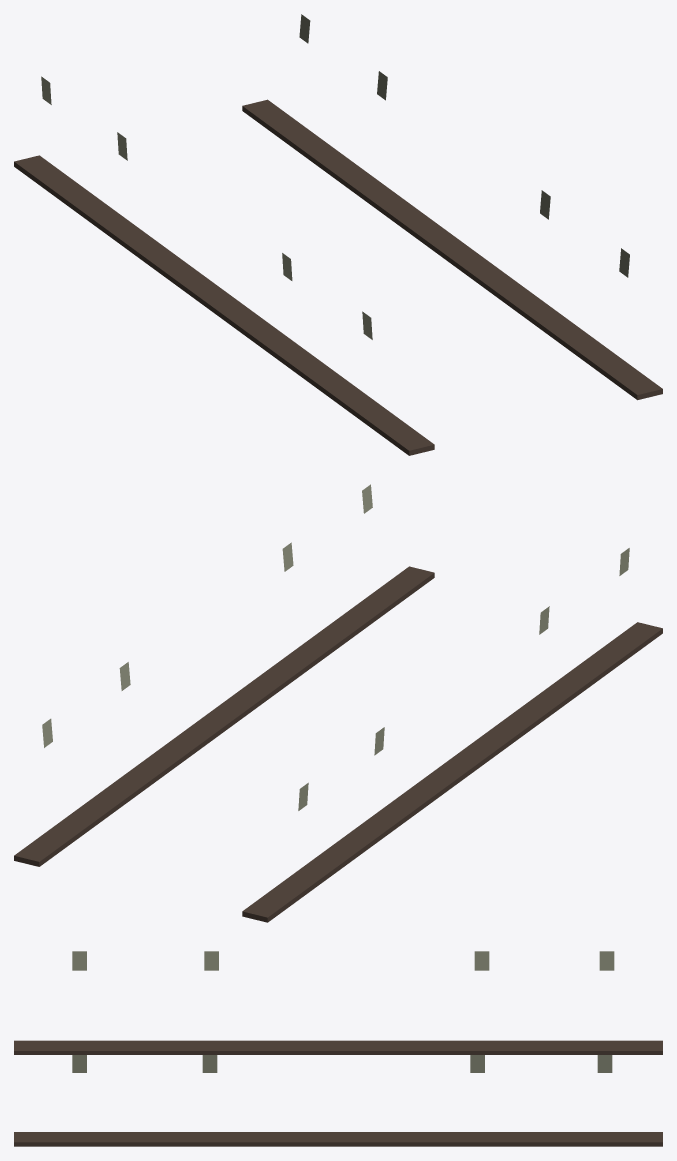
Rendered from clayton-accessories.dae.
3 views of the same model, one above another, from view 1: azimuth 30°, elevation 25°; view 2: azimuth 150°, elevation 25°; view 3: azimuth 270°, elevation 25° (orthographic). The views are drawn at different scales.
Visible parts, largest first — view 1: Plane_327, Plane_328; view 2: Plane_327, Plane_328; view 3: Plane_328, Plane_327, Plane_326, Plane_325.
Boxes of the visible parts, x1,y1,x2,y2 form: Plane_327: (14,155,434,455); Plane_328: (242,99,662,400); Plane_327: (242,622,662,922); Plane_328: (14,566,434,866); Plane_328: (14,1132,662,1146); Plane_327: (14,1040,662,1054); Plane_326: (599,951,614,970); Plane_325: (474,951,489,970).
Size of the model in its own units: 1.96 by 5.17 by 0.8139.
